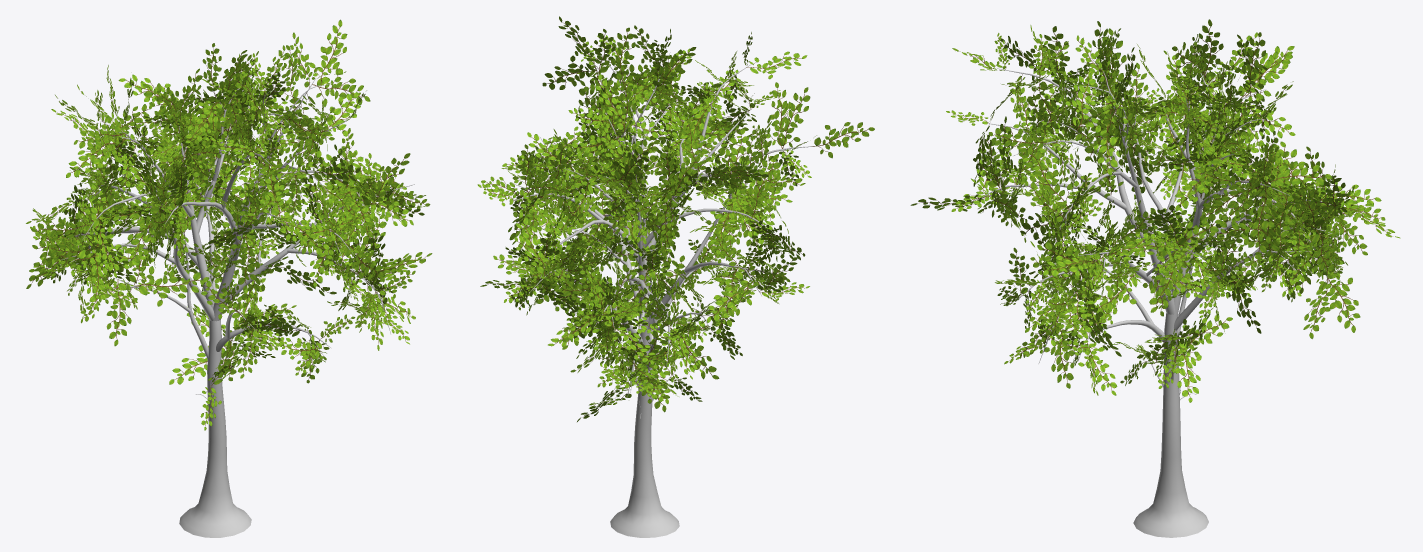
File: Tree1.fbx
3 renders of one model, left to right at view 1: azimuth 30°, elevation 25°; view 2: azimuth 150°, elevation 25°; view 3: azimuth 270°, elevation 25°, orthographic. The views are drawn at different scales.
Visible parts, largest first — view 1: Tree1_LOD0; view 2: Tree1_LOD0; view 3: Tree1_LOD0.
Boxes of the visible parts, <box> form: Tree1_LOD0: <box>26,19,432,537</box>; Tree1_LOD0: <box>477,16,874,537</box>; Tree1_LOD0: <box>910,19,1400,537</box>.
Size of the model in its own units: 461 by 536 by 609.
